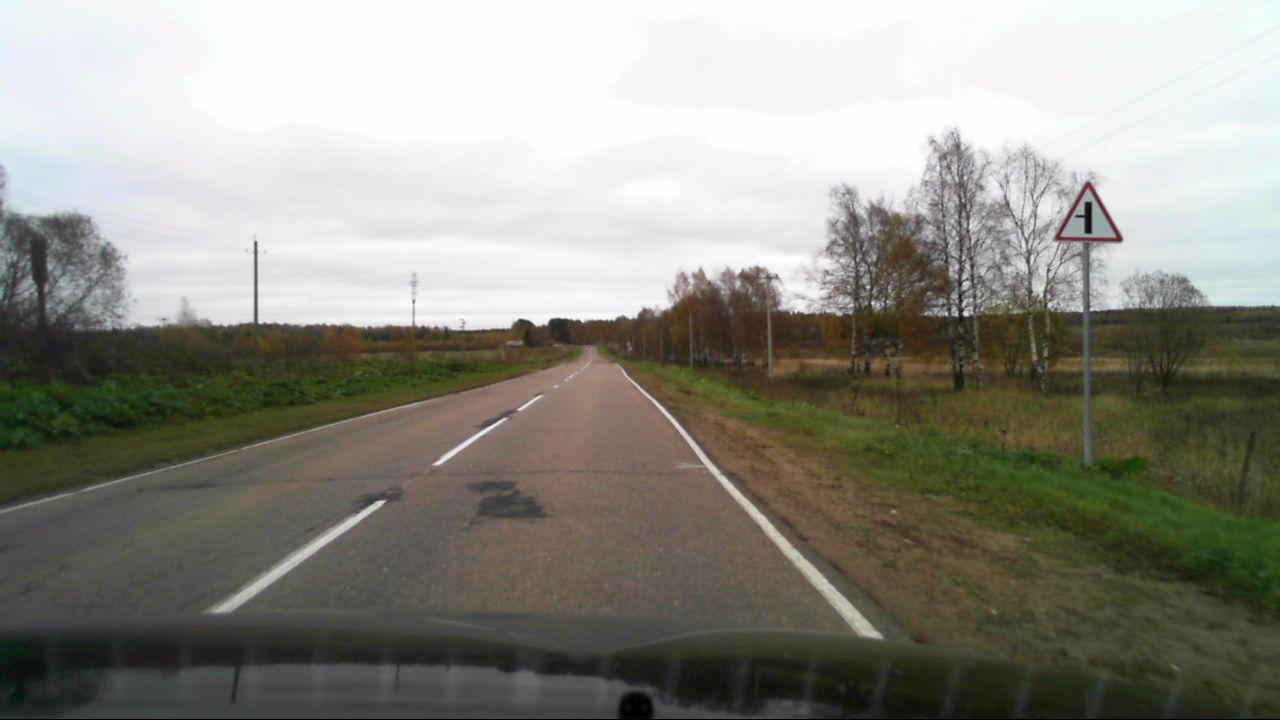2_3_3: (1054, 180, 1122, 243)
